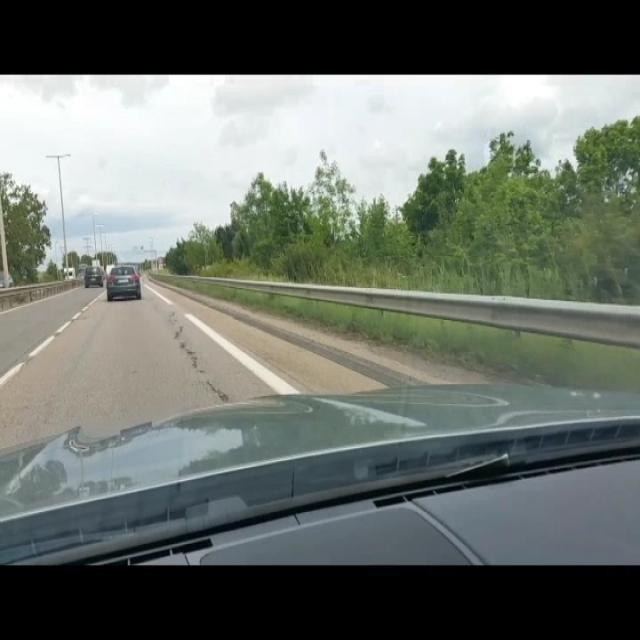direction: (132, 242, 146, 254)
